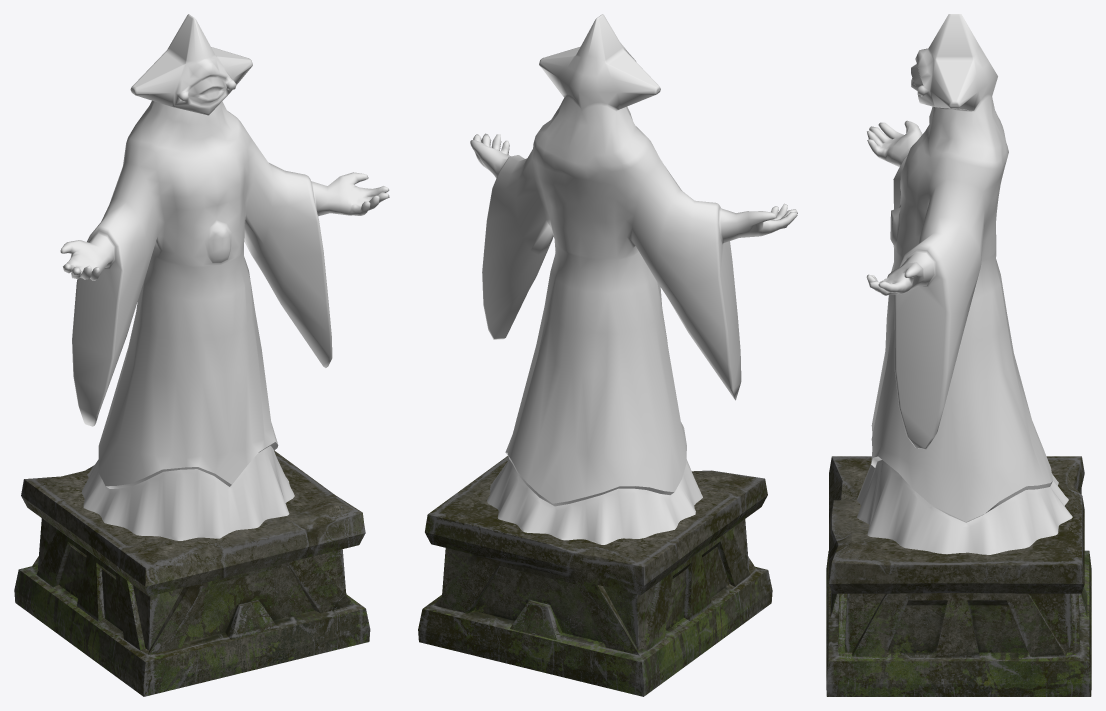
The model's file is SM_Statue_01.fbx.
3 views of the same model, side by side, from view 1: azimuth 30°, elevation 25°; view 2: azimuth 150°, elevation 25°; view 3: azimuth 270°, elevation 25° (orthographic). The views are drawn at different scales.
Visible parts, largest first — view 1: SM_StoneBase_01; view 2: SM_StoneBase_01; view 3: SM_StoneBase_01.
Part boxes in pixels (x1=…): SM_StoneBase_01: x1=14, y1=14, x2=389, y2=696; SM_StoneBase_01: x1=418, y1=14, x2=797, y2=696; SM_StoneBase_01: x1=826, y1=14, x2=1091, y2=696.
Bounding box in the file's own units: 66.86 × 120 × 46.24.
